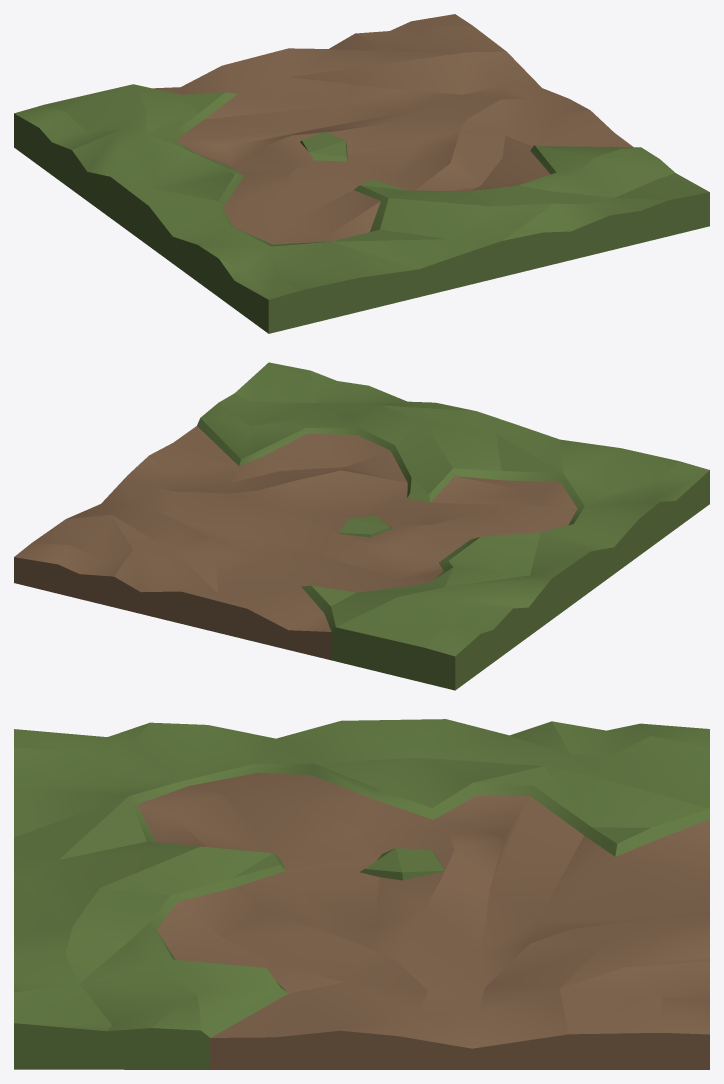
Rendered from Ground_Corner_Internal_LB.glb.
The picture shows the model from 3 angles, top to bottom: view 1: azimuth 30°, elevation 25°; view 2: azimuth 150°, elevation 25°; view 3: azimuth 270°, elevation 25°; orthographic projection. The views are drawn at different scales.
Visible parts, largest first — view 1: Ground_Corner_Internal_LB; view 2: Ground_Corner_Internal_LB; view 3: Ground_Corner_Internal_LB.
Part boxes in pixels (x1,y1,x2,y2): Ground_Corner_Internal_LB: (14, 14, 709, 333); Ground_Corner_Internal_LB: (14, 362, 709, 690); Ground_Corner_Internal_LB: (14, 719, 709, 1069).
Size of the model in its own units: 1.47 by 0.1416 by 1.47.
